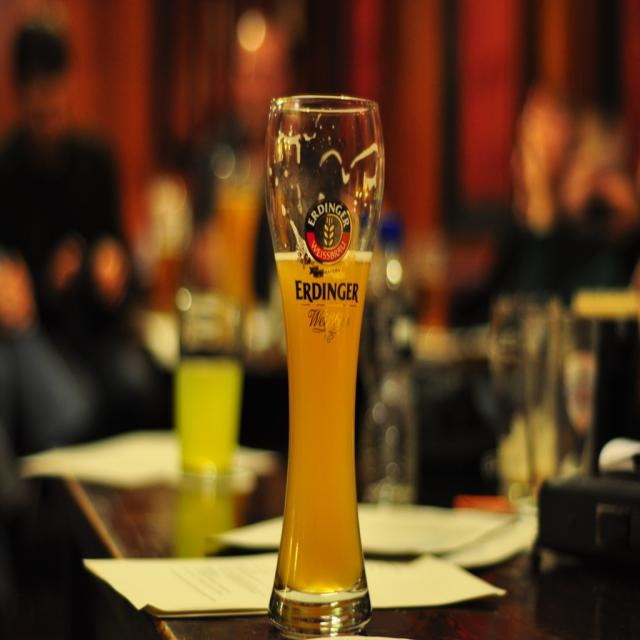erdinger: (286, 193, 364, 312)
